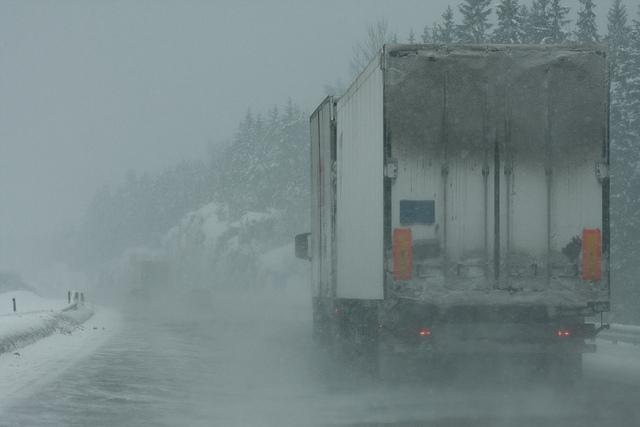truck: (306, 51, 610, 394)
